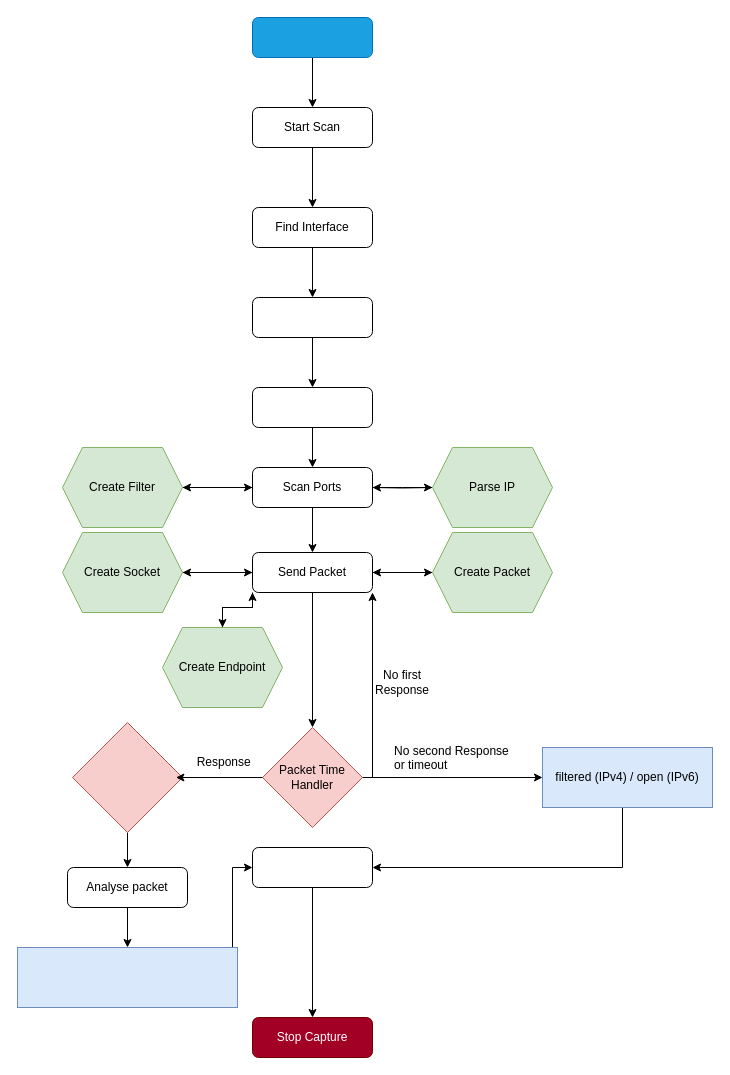
The diagram is 730 pixels wide and 1075 high, and some of its shapes have lost their labels. Here are the shapes that lost their labels. From the top down, the centre of each, then its label:
pixel 312 37: Parse Arguments
pixel 312 317: Open Interface
pixel 312 407: Start Capture
pixel 127 777: On Packet Arrival
pixel 312 867: Close
pixel 127 977: opened / closed (IPv4) / closed (IPv6)
